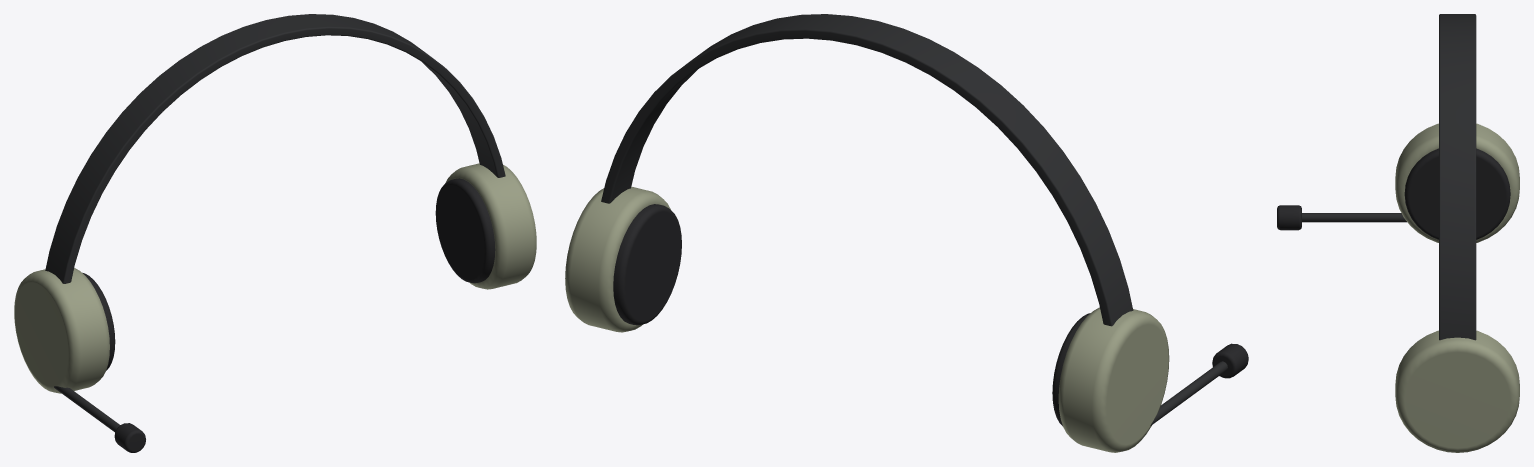
File: headset_CT.glb
The picture shows the model from 3 angles, left to right: view 1: azimuth 30°, elevation 25°; view 2: azimuth 150°, elevation 25°; view 3: azimuth 270°, elevation 25°; orthographic projection. The views are drawn at different scales.
Parts seen in each view (by area): view 1: headset@Head; view 2: headset@Head; view 3: headset@Head.
Part boxes in pixels (x1,y1,x2,y2): headset@Head: [14, 14, 536, 452]; headset@Head: [565, 14, 1248, 452]; headset@Head: [1277, 14, 1519, 452].
Bounding box in the file's own units: 0.3497 × 0.217 × 0.156.
